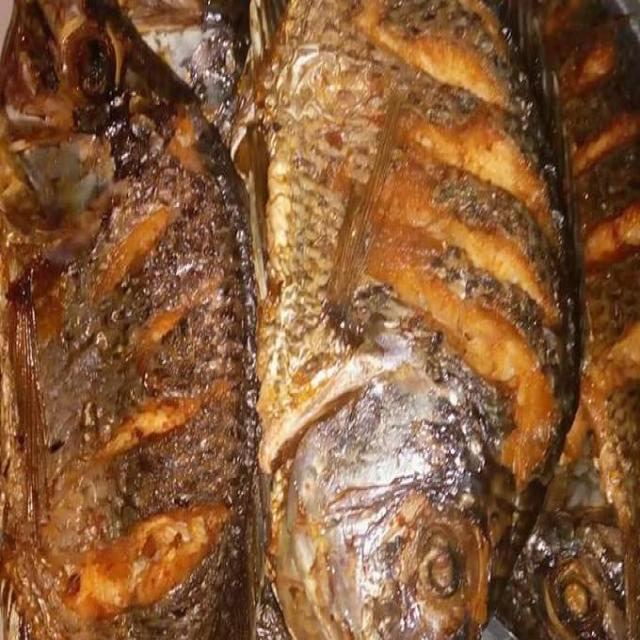Peixe: (234, 0, 581, 639), (0, 0, 264, 638)
